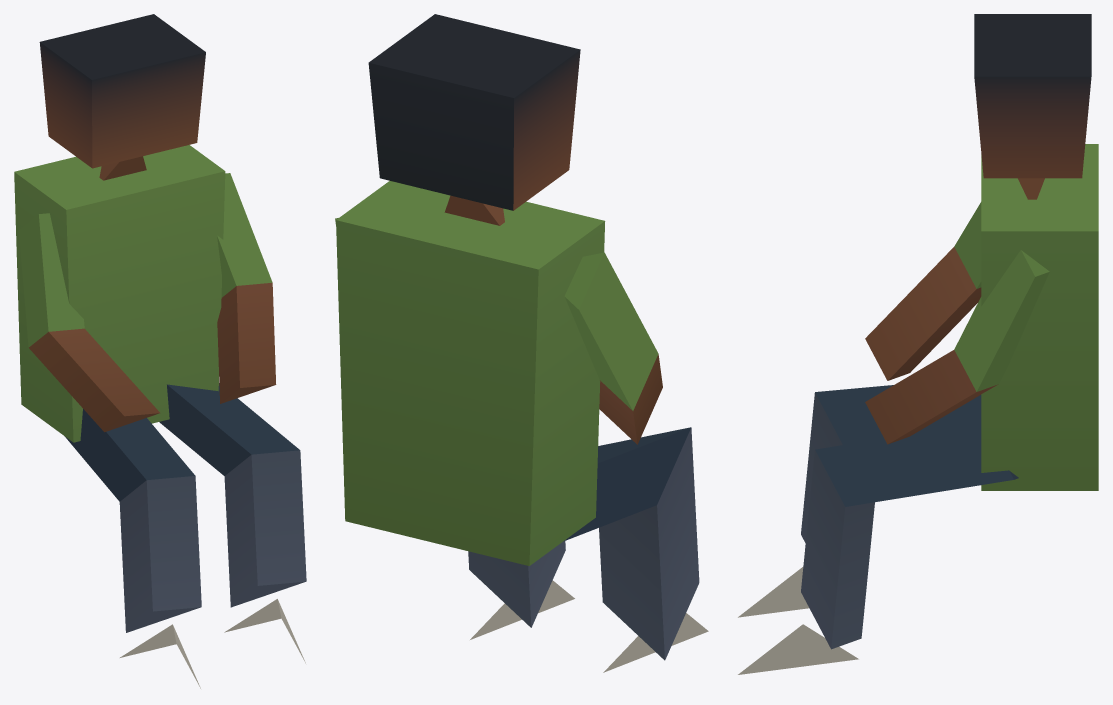
File: fan-07.glb
3 views of the same model, side by side, from view 1: azimuth 30°, elevation 25°; view 2: azimuth 150°, elevation 25°; view 3: azimuth 270°, elevation 25° (orthographic). The views are drawn at different scales.
Visible parts, largest first — view 1: fan-07; view 2: fan-07; view 3: fan-07.
Boxes of the visible parts, <box> form: fan-07: <box>14,14,306,688</box>; fan-07: <box>335,14,708,672</box>; fan-07: <box>738,14,1098,674</box>.
Bounding box in the file's own units: 0.6475 × 1.41 × 0.77.
